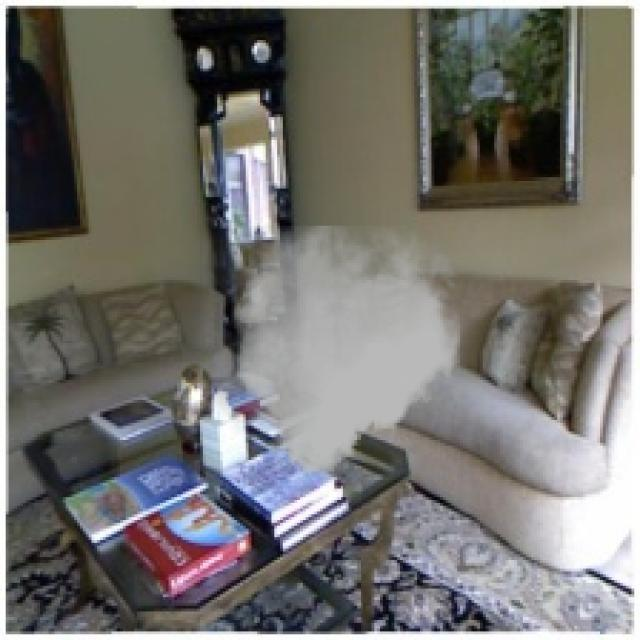Smoke: (203, 226, 466, 474)
